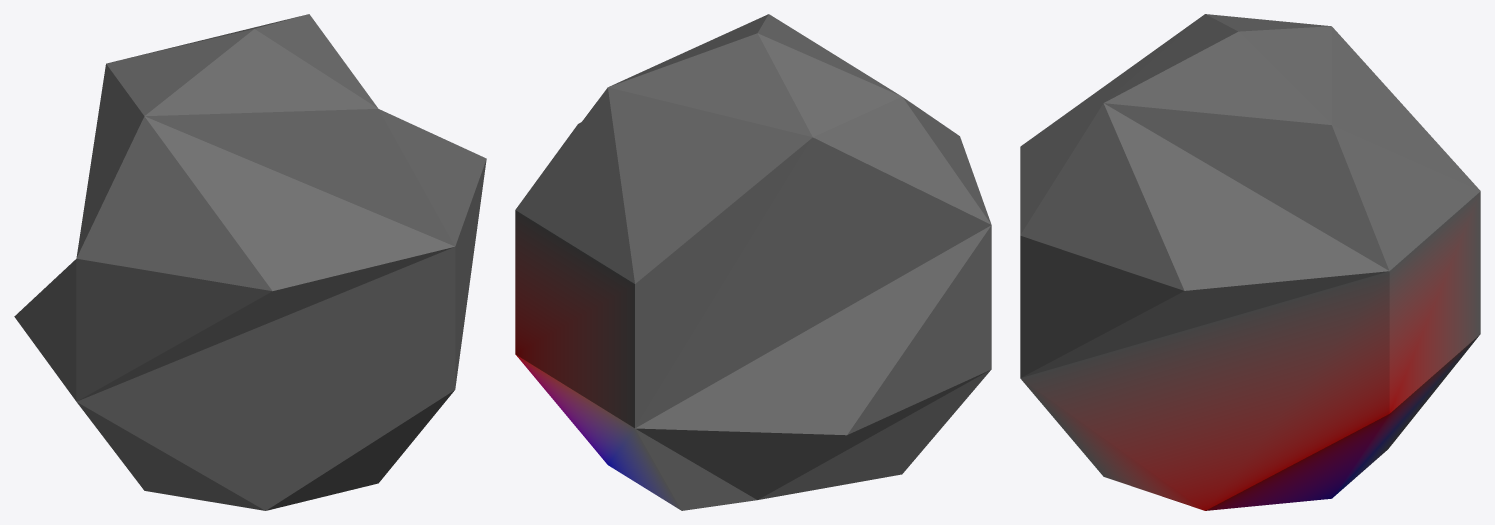
File: before_retriangulation_7.obj
3 views of the same model, side by side, from view 1: azimuth 30°, elevation 25°; view 2: azimuth 150°, elevation 25°; view 3: azimuth 270°, elevation 25° (orthographic).
Bounding box in the file's own units: 1.85 × 2 × 1.81.
